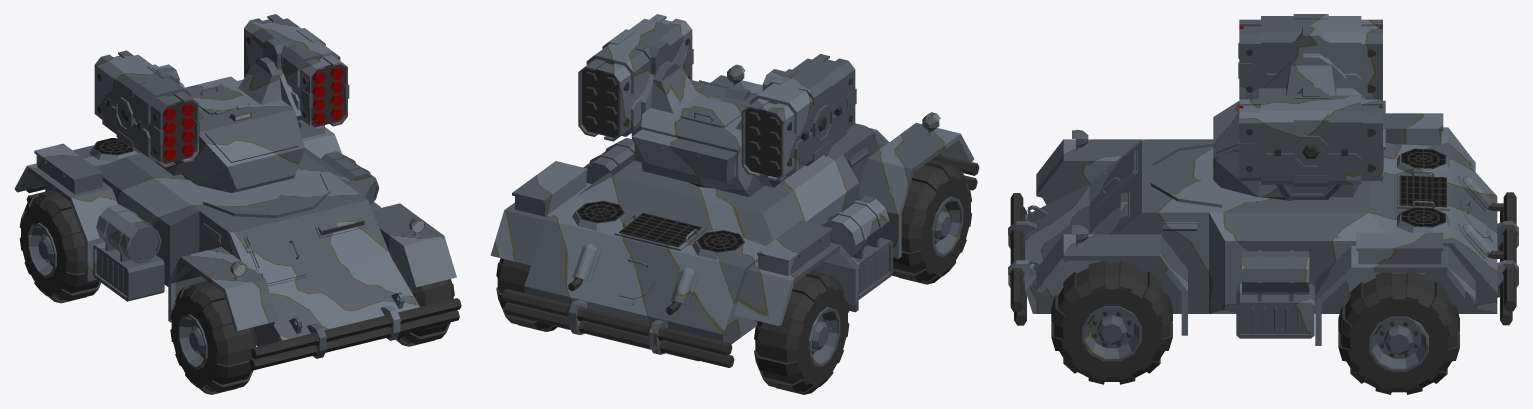
The model's file is gatling-rocket.glb.
3 renders of one model, left to right at view 1: azimuth 30°, elevation 25°; view 2: azimuth 150°, elevation 25°; view 3: azimuth 270°, elevation 25°, orthographic. The views are drawn at different scales.
Visible parts, largest first — view 1: Object_6, Object_4, Object_3, Object_2; view 2: Object_6, Object_4, Object_2; view 3: Object_6, Object_4, Object_2.
Part boxes in pixels (x1,y1,x2,y2): Object_6: [14, 14, 456, 369]; Object_4: [19, 37, 461, 394]; Object_3: [163, 67, 343, 160]; Object_2: [93, 138, 133, 155]; Object_6: [490, 14, 974, 367]; Object_4: [496, 38, 979, 394]; Object_2: [576, 200, 744, 252]; Object_6: [1008, 14, 1518, 371]; Object_4: [1009, 26, 1517, 394]; Object_2: [1399, 148, 1446, 227].
Bounding box in the file's own units: 3.09 × 2.55 × 4.48.
Materials: 5 (2 with a texture image).
